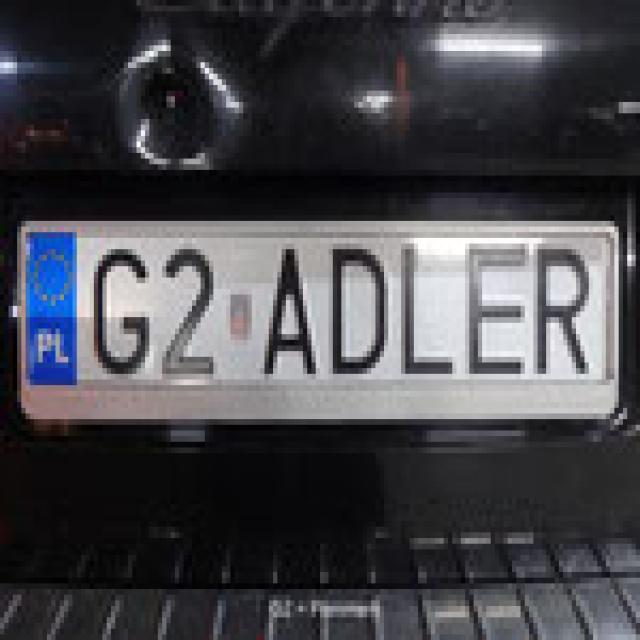pl_license_plate: (17, 216, 606, 380)
